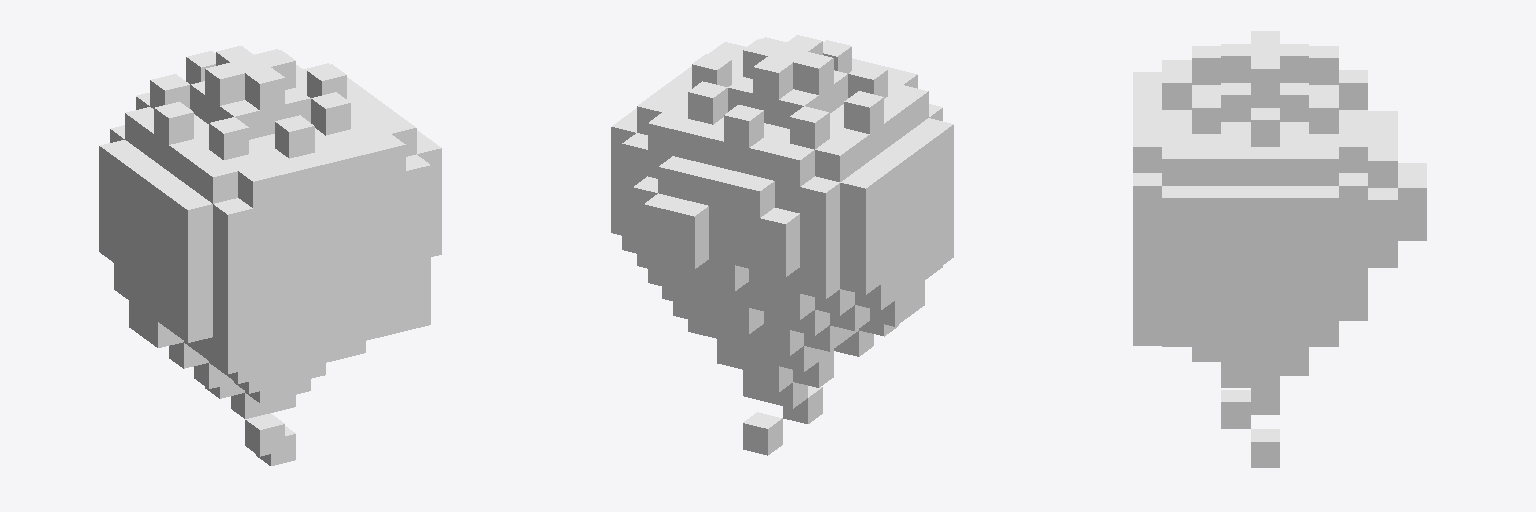
Rendered from monster-lightness.obj.
The picture shows the model from 3 angles: view 1: azimuth 30°, elevation 25°; view 2: azimuth 150°, elevation 25°; view 3: azimuth 270°, elevation 25°; orthographic projection.
Bounding box in the file's own units: 10 × 15 × 10.